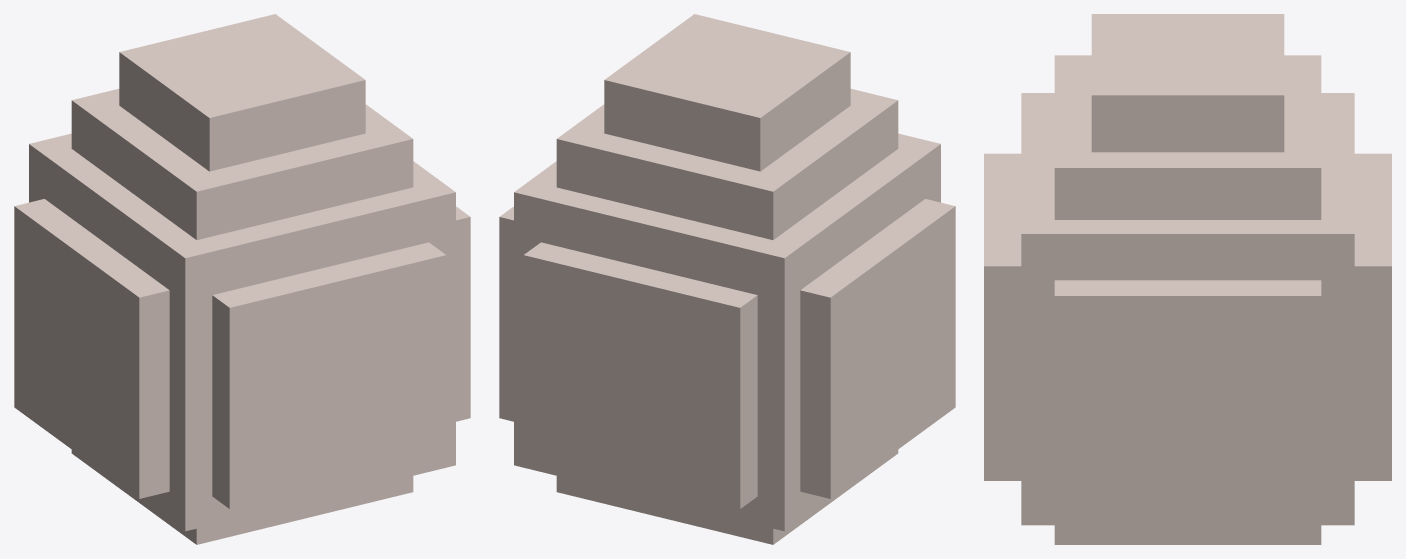
The model's file is 10.Duckling.fbx.
3 renders of one model, left to right at view 1: azimuth 30°, elevation 25°; view 2: azimuth 150°, elevation 25°; view 3: azimuth 270°, elevation 25°, orthographic. The views are drawn at different scales.
Visible parts, largest first — view 1: Duckling; view 2: Duckling; view 3: Duckling.
Boxes of the visible parts, <box> form: Duckling: <box>14,14,470,544</box>; Duckling: <box>499,14,955,544</box>; Duckling: <box>984,14,1391,544</box>.
Size of the model in its own units: 2.89 by 3.39 by 2.89.
